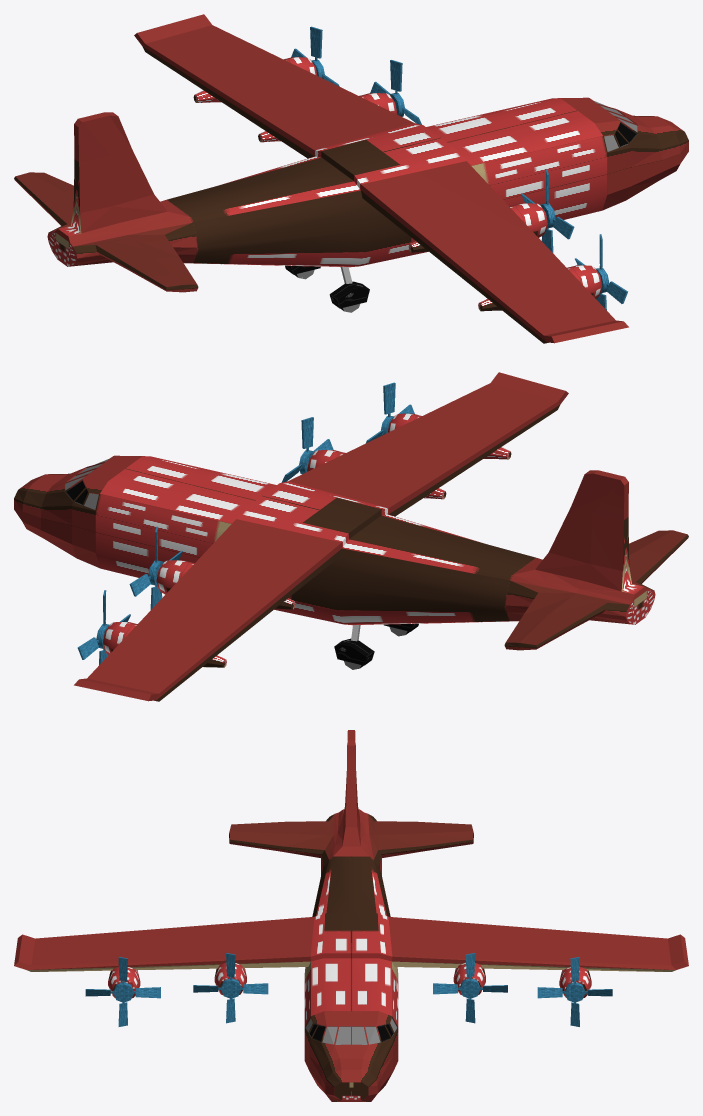
Rendered from war_plane_bomber_1.FBX.
The picture shows the model from 3 angles, top to bottom: view 1: azimuth 30°, elevation 25°; view 2: azimuth 150°, elevation 25°; view 3: azimuth 270°, elevation 25°; orthographic projection. The views are drawn at different scales.
Visible parts, largest first — view 1: Box215, Cylinder144, Cylinder140, Box217, Cylinder142, Object372, Cylinder141; view 2: Box215, Cylinder140, Cylinder144, Box219, Object372, Cylinder141, Cylinder142; view 3: Box215, Object372, Cylinder144, Cylinder142, Cylinder141, Cylinder140.
Part boxes in pixels (box(x1,y1,x2,y2)): Box215: box(14, 14, 688, 343); Cylinder144: box(521, 169, 574, 252); Cylinder140: box(370, 60, 421, 124); Box217: box(329, 281, 369, 308); Cylinder142: box(575, 234, 627, 310); Object372: box(593, 100, 637, 151); Cylinder141: box(291, 26, 339, 86); Box215: box(14, 372, 688, 701); Cylinder140: box(129, 526, 182, 609); Cylinder144: box(281, 417, 333, 482); Box219: box(334, 638, 374, 665); Object372: box(65, 458, 109, 509); Cylinder141: box(77, 590, 130, 664); Cylinder142: box(365, 382, 414, 443); Box215: box(14, 730, 688, 1101); Object372: box(305, 1018, 397, 1044); Cylinder144: box(193, 953, 268, 1023); Cylinder142: box(85, 957, 160, 1026); Cylinder141: box(537, 957, 612, 1026); Cylinder140: box(433, 953, 507, 1023).
Bounding box in the file's own units: 18.03 × 6.53 × 21.57.
Materials: 15 (14 with a texture image).
